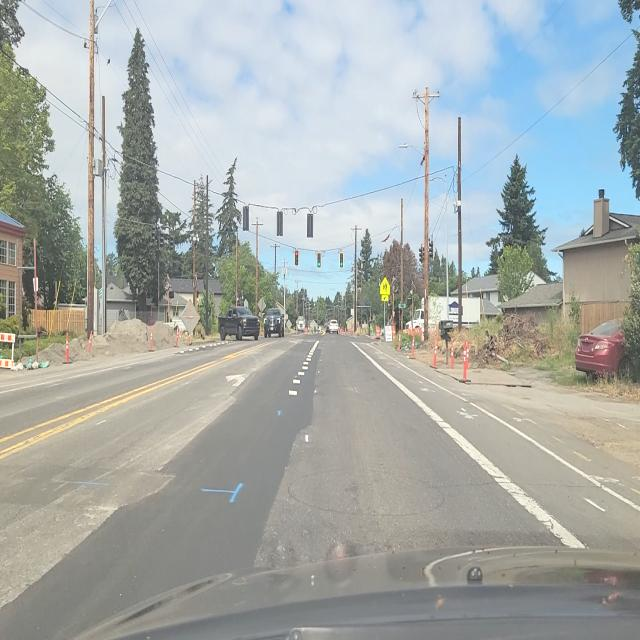car: (574, 318, 632, 384), (219, 306, 261, 342), (263, 308, 285, 339), (328, 319, 339, 334), (296, 318, 305, 333)
crosswalk-sign: (380, 276, 390, 300)
delineator: (462, 340, 470, 382), (432, 338, 438, 369), (65, 331, 70, 363), (411, 329, 416, 358), (450, 341, 454, 370), (397, 328, 402, 350), (88, 330, 93, 352), (149, 330, 153, 351), (175, 327, 179, 347), (188, 332, 192, 346)
